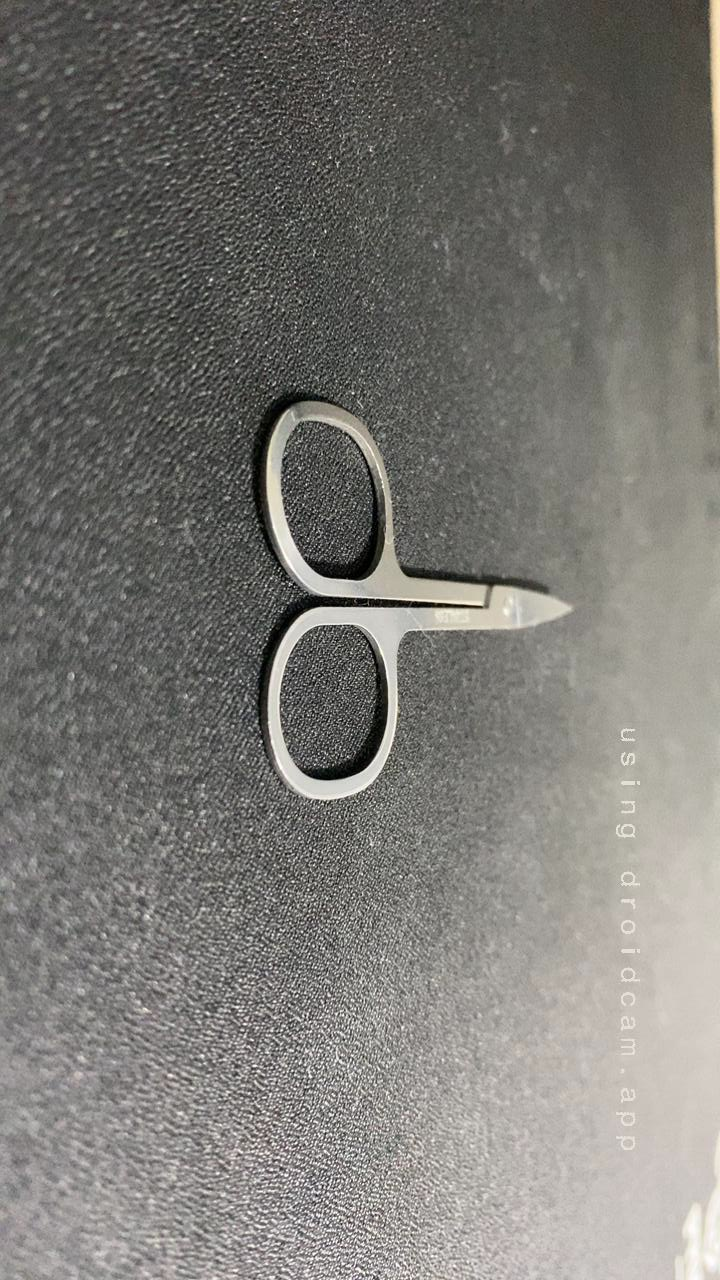scissor: (207, 374, 417, 607)
